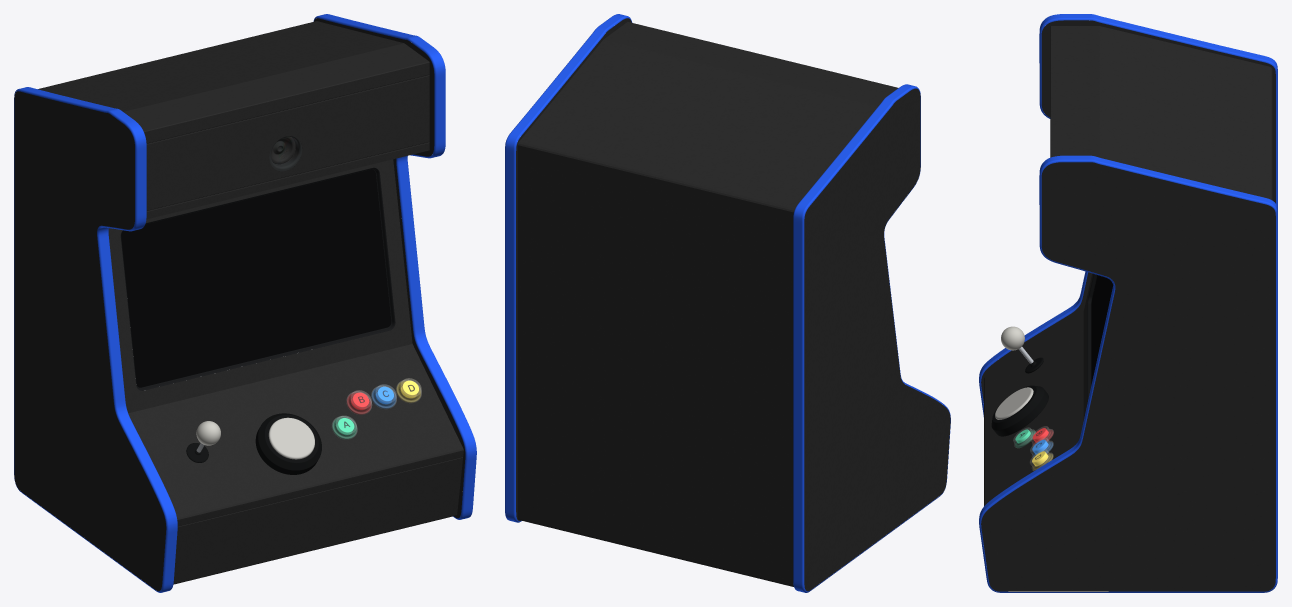
The model's file is arcade-v4.1.glb.
3 renders of one model, left to right at view 1: azimuth 30°, elevation 25°; view 2: azimuth 150°, elevation 25°; view 3: azimuth 270°, elevation 25°, orthographic. The views are drawn at different scales.
Parts seen in each view (by area): view 1: Body_panel_00, Screen_glass, Continuous_blue_edge_-1, Rounded_screen_recess, Camera_aperture_sleeve, Large_white_button, Original_camera; view 2: Body_panel_00, Continuous_blue_edge_-1; view 3: Body_panel_00, Continuous_blue_edge_-1, Camera_aperture_sleeve, Screen_glass, Large_white_button, Rounded_screen_recess, Joystick_true_sphere.
Boxes of the visible parts, x1,y1,x2,y2 form: Body_panel_00: (14,18,465,591); Screen_glass: (121,169,391,387); Continuous_blue_edge_-1: (14,14,476,592); Rounded_screen_recess: (120,167,395,390); Camera_aperture_sleeve: (186,166,321,474); Large_white_button: (268,417,314,459); Original_camera: (269,136,302,171); Body_panel_00: (516,18,950,591); Continuous_blue_edge_-1: (505,14,950,592); Body_panel_00: (981,20,1275,591); Continuous_blue_edge_-1: (979,14,1277,592); Camera_aperture_sleeve: (991,357,1048,436); Screen_glass: (1091,275,1113,383); Large_white_button: (995,387,1033,419); Rounded_screen_recess: (1087,274,1097,403); Joystick_true_sphere: (1001,326,1024,350).
Bounding box in the file's own units: 1.38 × 1.9 × 1.19.
Materials: 21 (6 with a texture image).
